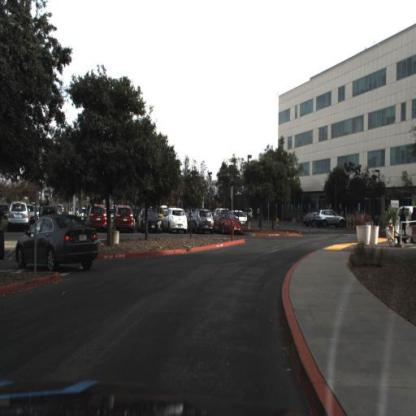car: (17, 211, 100, 275), (188, 204, 216, 236), (315, 207, 349, 232), (215, 208, 244, 237), (137, 206, 164, 237), (113, 203, 137, 237), (8, 198, 31, 233), (163, 205, 190, 234), (236, 208, 250, 226)
